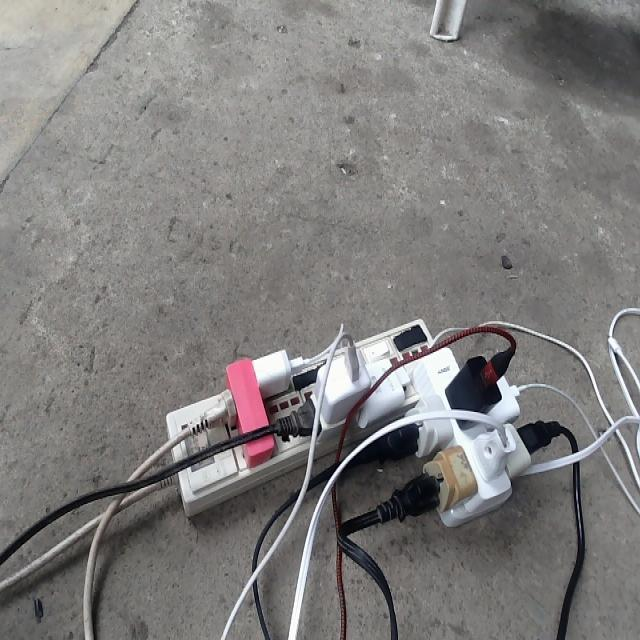-: (165, 318, 568, 526)
